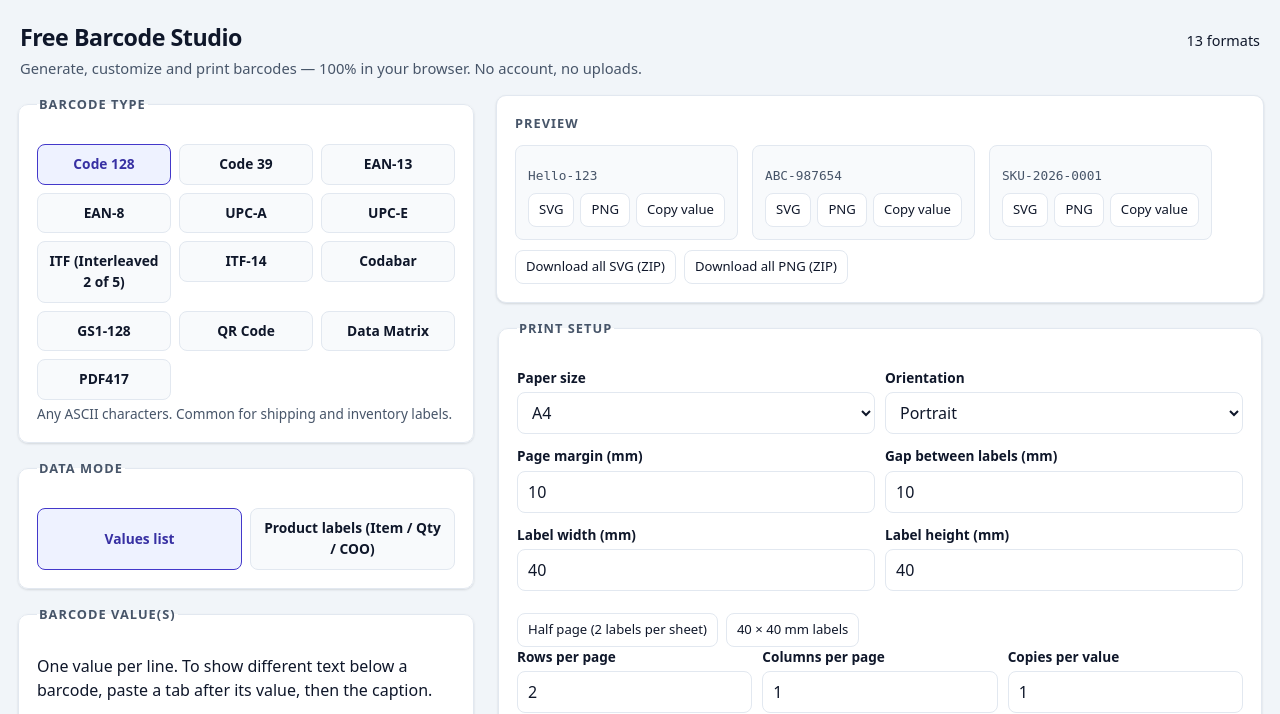
Test: template mode (Item / Qty / COO) › starts with 40 mm label dimensions and restores them after half-page mode
Expected: the number field labelled "Label width (mm)" holds "40", [517,549,875,591]
Expected: the number field labelled "Label height (mm)" holds "40", [885,549,1243,591]
What coordinates should you click on to do the following:
click the button "Half page (2 labels per sheet)"
I would click on:
 (617, 630)
Its box is [517,613,718,647].
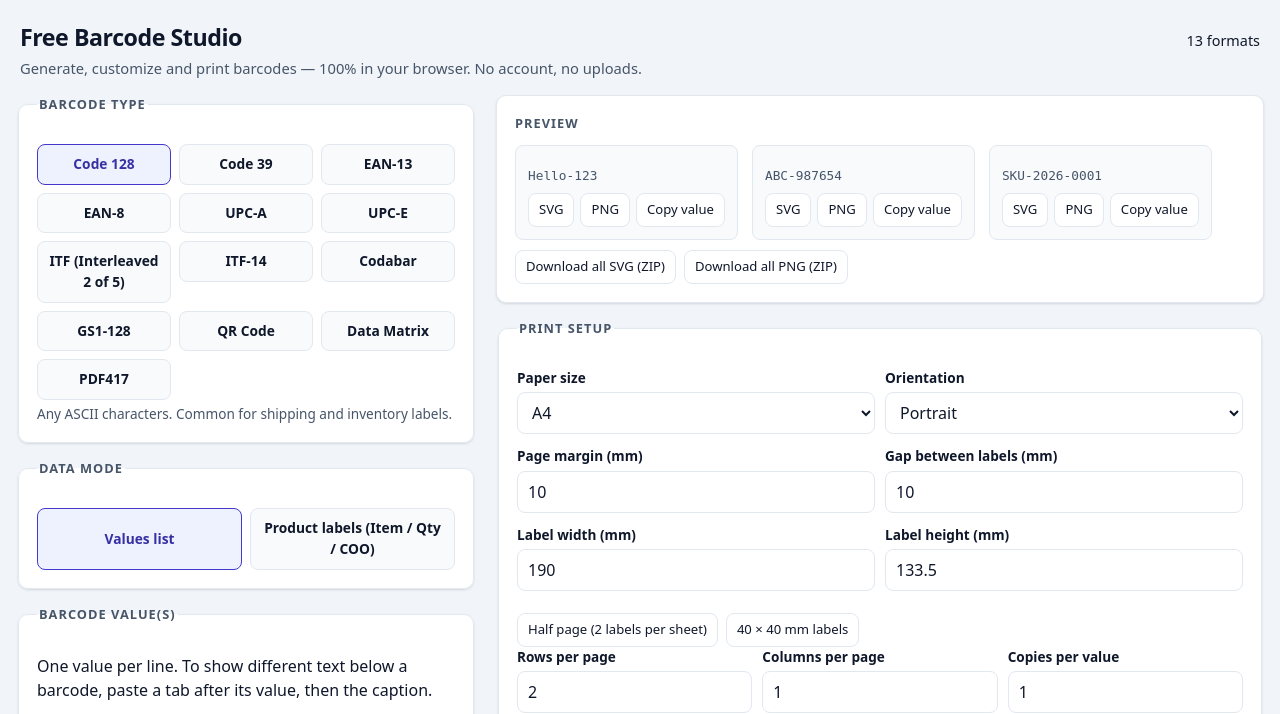
Now the number field labelled "Label width (mm)" holds "190", box [517,549,875,591]
What coordinates should you click on to do the following:
click the button "40 × 40 mm labels"
I would click on:
 (793, 630)
Its box is [726,613,859,647].
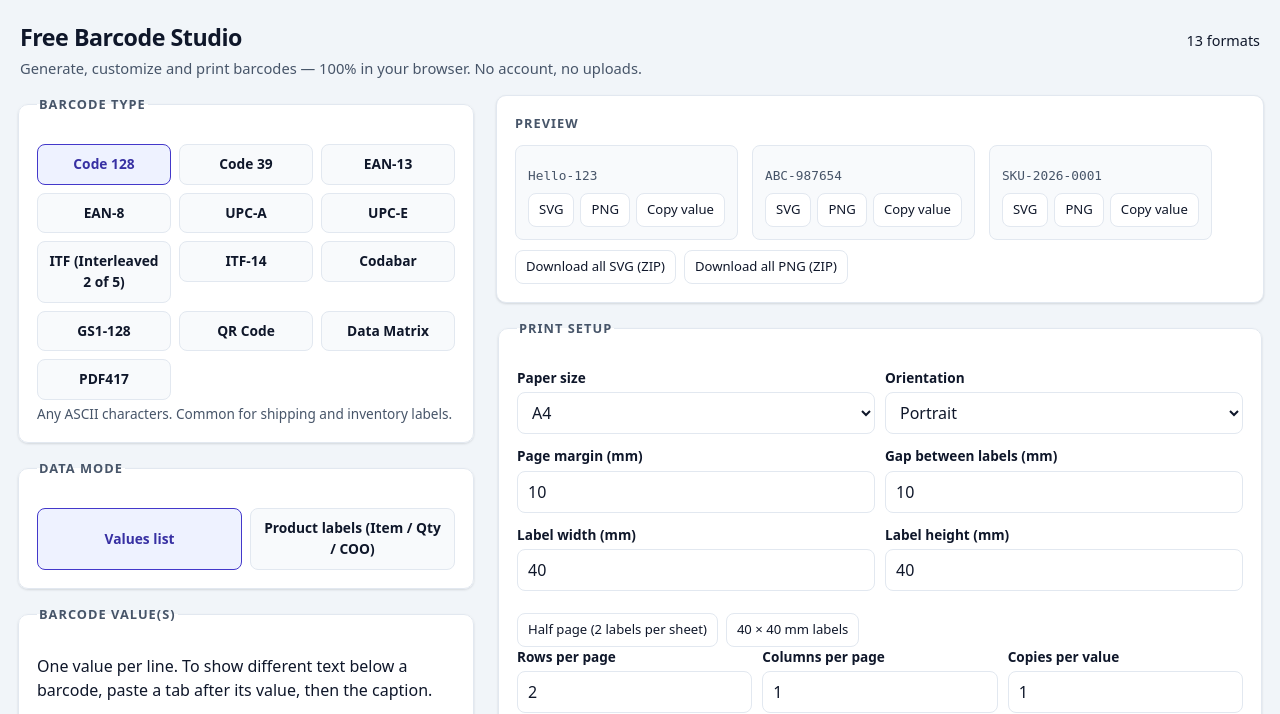
Now the number field labelled "Label width (mm)" holds "40", box [517,549,875,591]
Now the number field labelled "Label height (mm)" holds "40", box [885,549,1243,591]
